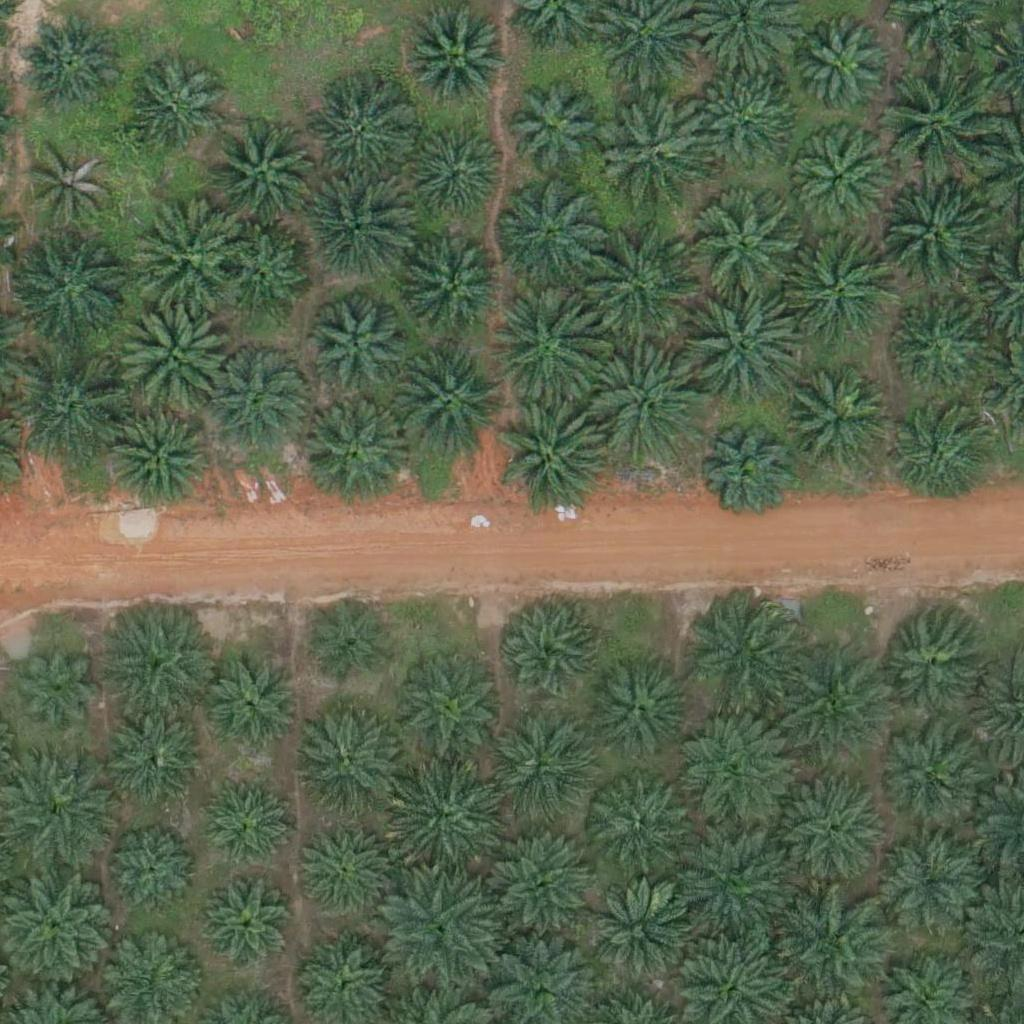Kelapa_Sawit: (1, 873, 114, 987), (879, 175, 992, 289), (589, 352, 702, 466), (486, 292, 599, 406), (302, 393, 415, 507), (389, 345, 502, 459), (1, 758, 114, 871), (876, 717, 989, 830), (769, 653, 882, 766), (770, 774, 883, 887), (683, 602, 796, 715), (676, 719, 789, 832), (383, 879, 496, 992), (284, 706, 397, 819), (878, 69, 991, 182), (781, 233, 894, 346), (691, 194, 804, 307), (600, 93, 713, 206), (301, 172, 414, 285), (874, 607, 986, 721), (389, 651, 501, 765), (101, 600, 213, 714), (493, 176, 605, 290), (785, 886, 897, 999), (678, 830, 790, 943), (589, 881, 701, 994), (388, 766, 500, 879), (783, 370, 895, 483), (693, 291, 805, 404), (582, 226, 694, 339), (498, 403, 610, 516), (206, 116, 318, 229), (129, 199, 241, 312), (116, 297, 228, 410), (18, 352, 130, 465), (14, 231, 126, 344), (882, 840, 982, 941), (592, 654, 692, 755), (591, 783, 691, 884), (493, 831, 593, 932), (199, 873, 299, 974), (103, 712, 203, 813), (891, 299, 991, 400), (888, 408, 988, 509), (788, 131, 888, 232), (505, 81, 605, 182), (307, 302, 407, 403), (208, 346, 308, 447), (122, 57, 222, 158), (486, 718, 586, 818), (497, 601, 597, 701), (195, 771, 295, 871), (202, 647, 302, 747), (696, 78, 796, 178), (408, 11, 508, 111), (408, 127, 508, 227), (404, 243, 504, 343), (310, 87, 410, 187), (107, 409, 207, 509), (19, 12, 119, 112), (798, 25, 886, 114), (306, 597, 394, 685), (299, 825, 387, 913), (218, 230, 306, 318), (18, 645, 105, 733), (113, 830, 200, 918), (701, 432, 788, 520), (28, 143, 115, 231)
